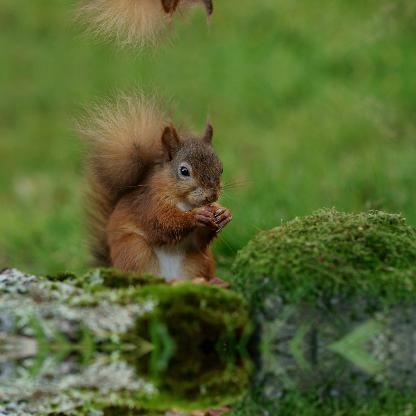Squirrel: (66, 72, 260, 288), (65, 0, 261, 66)
